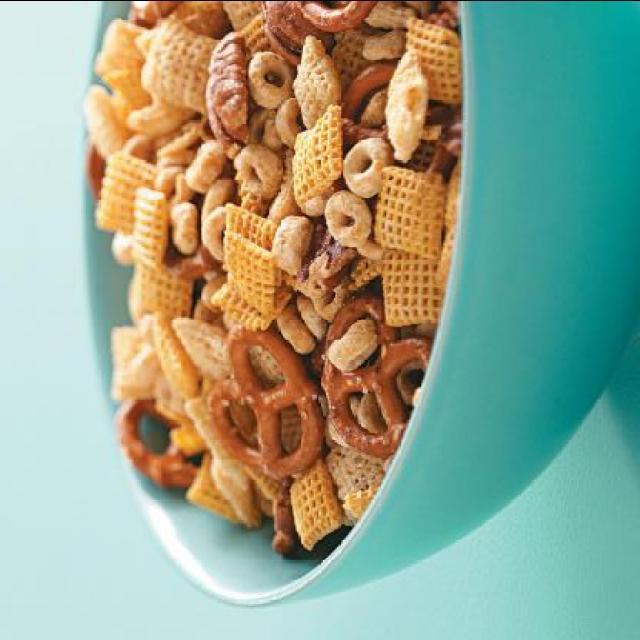Salatini packaged: (82, 0, 468, 542)
